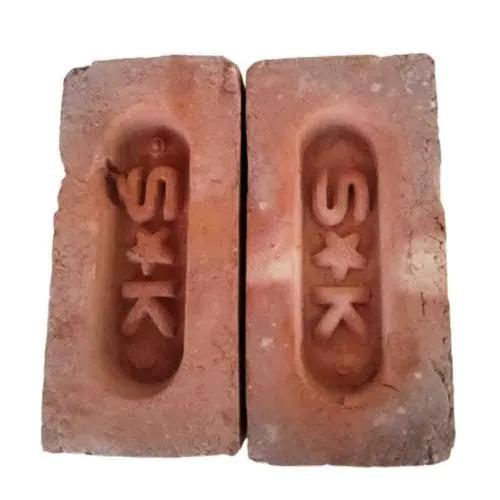brick: (245, 50, 455, 470), (41, 54, 240, 455)
